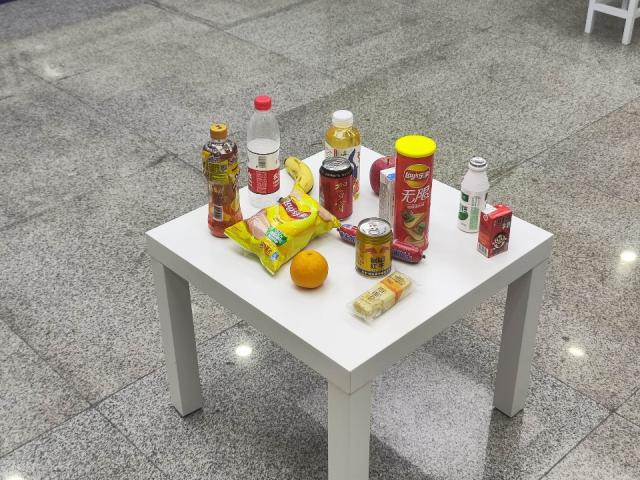Canned_drinks: (319, 157, 361, 219), (355, 216, 393, 280)
